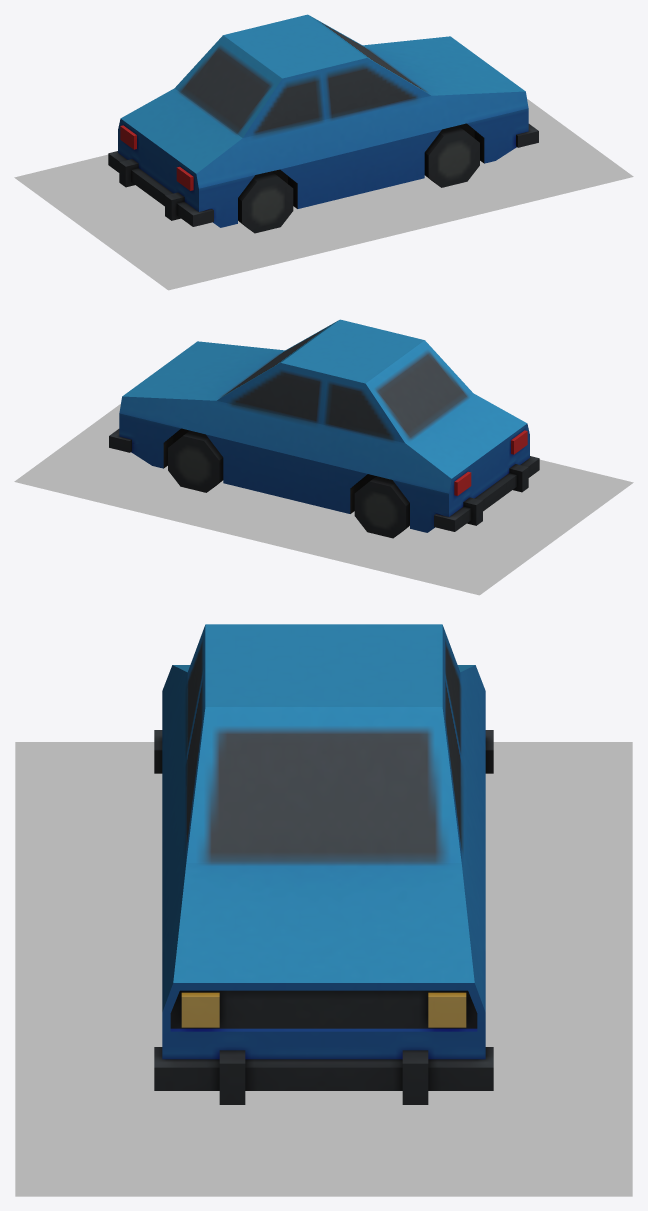
Rendered from 2x1_dacia.FBX.
The picture shows the model from 3 angles, top to bottom: view 1: azimuth 30°, elevation 25°; view 2: azimuth 150°, elevation 25°; view 3: azimuth 270°, elevation 25°; orthographic projection. The views are drawn at different scales.
Visible parts, largest first — view 1: 2x1_dacia, 2x1_dacia_soft_shadow; view 2: 2x1_dacia, 2x1_dacia_soft_shadow; view 3: 2x1_dacia_soft_shadow, 2x1_dacia.
Part boxes in pixels (x1,y1,x2,y2): 2x1_dacia: [108, 14, 538, 233]; 2x1_dacia_soft_shadow: [14, 99, 633, 290]; 2x1_dacia: [109, 319, 539, 538]; 2x1_dacia_soft_shadow: [14, 404, 633, 595]; 2x1_dacia_soft_shadow: [15, 742, 632, 1196]; 2x1_dacia: [154, 624, 493, 1104].
Size of the model in its own units: 2588 by 744 by 1486.
